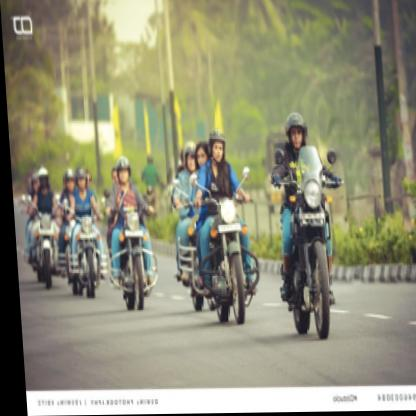With Helmet: (279, 110, 309, 152), (203, 124, 229, 171), (109, 149, 129, 191), (70, 162, 87, 194)
